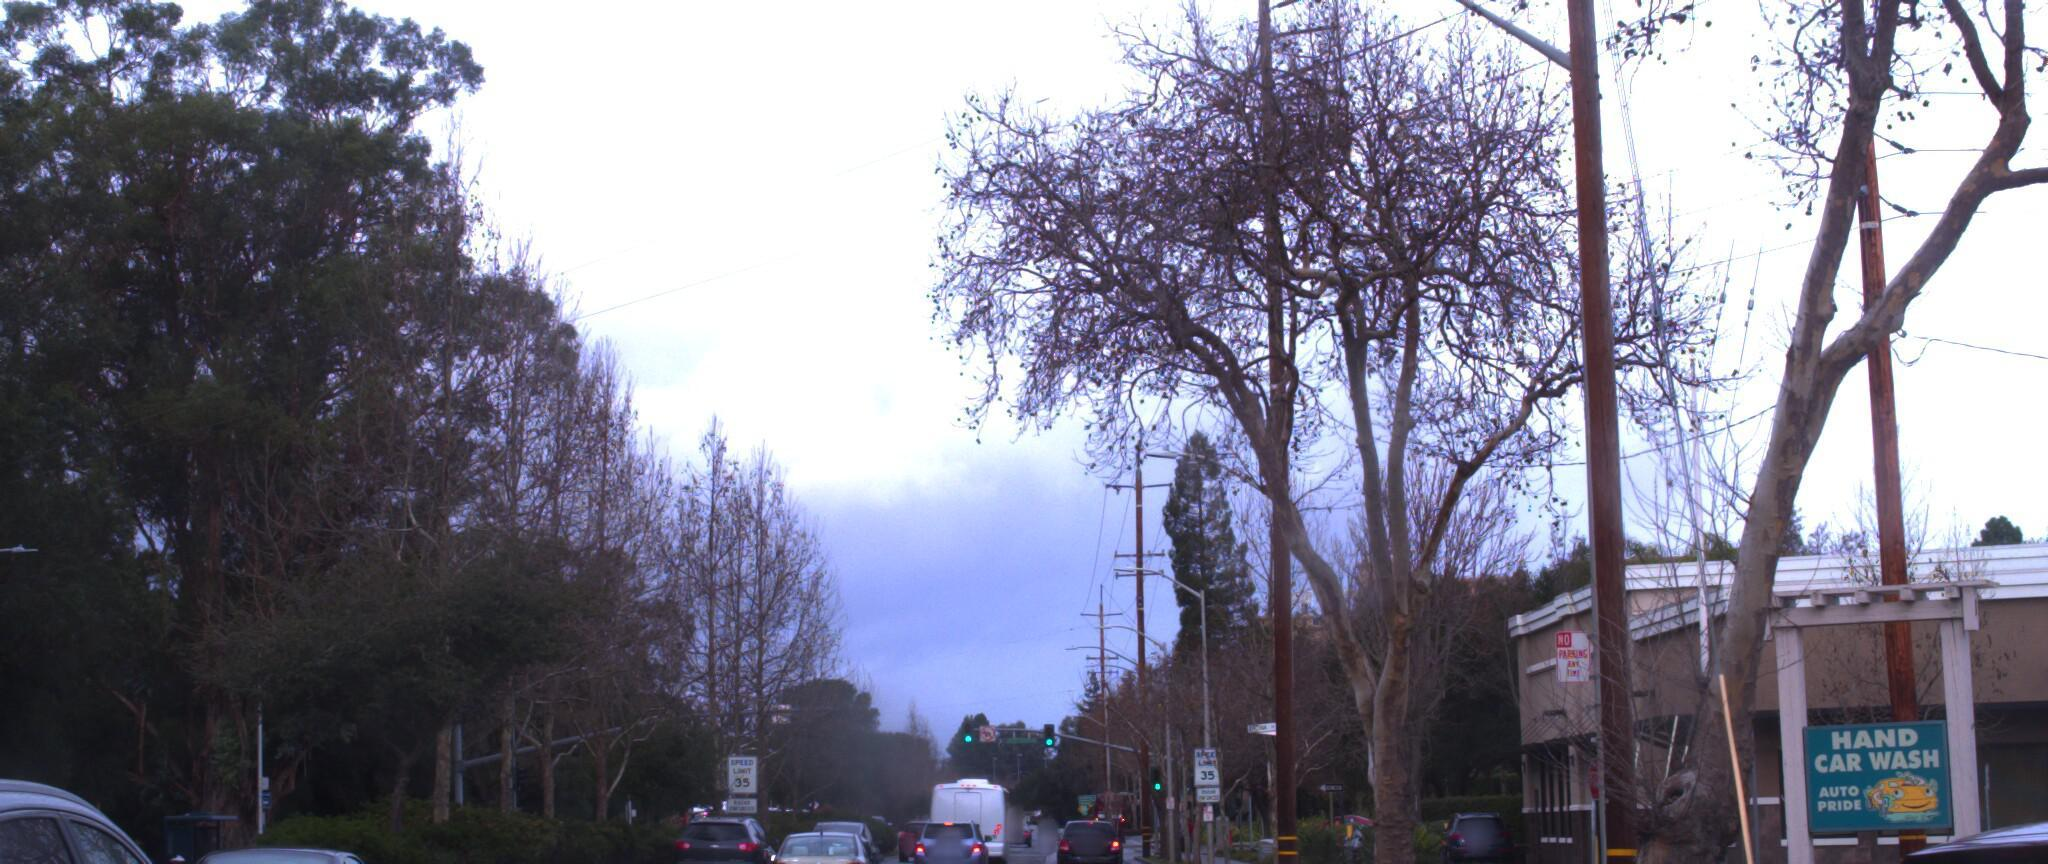car: (0, 696, 291, 864), (1761, 787, 2048, 864), (1812, 821, 2048, 864), (132, 831, 428, 864), (763, 801, 883, 864), (666, 805, 771, 864), (904, 808, 986, 864)
